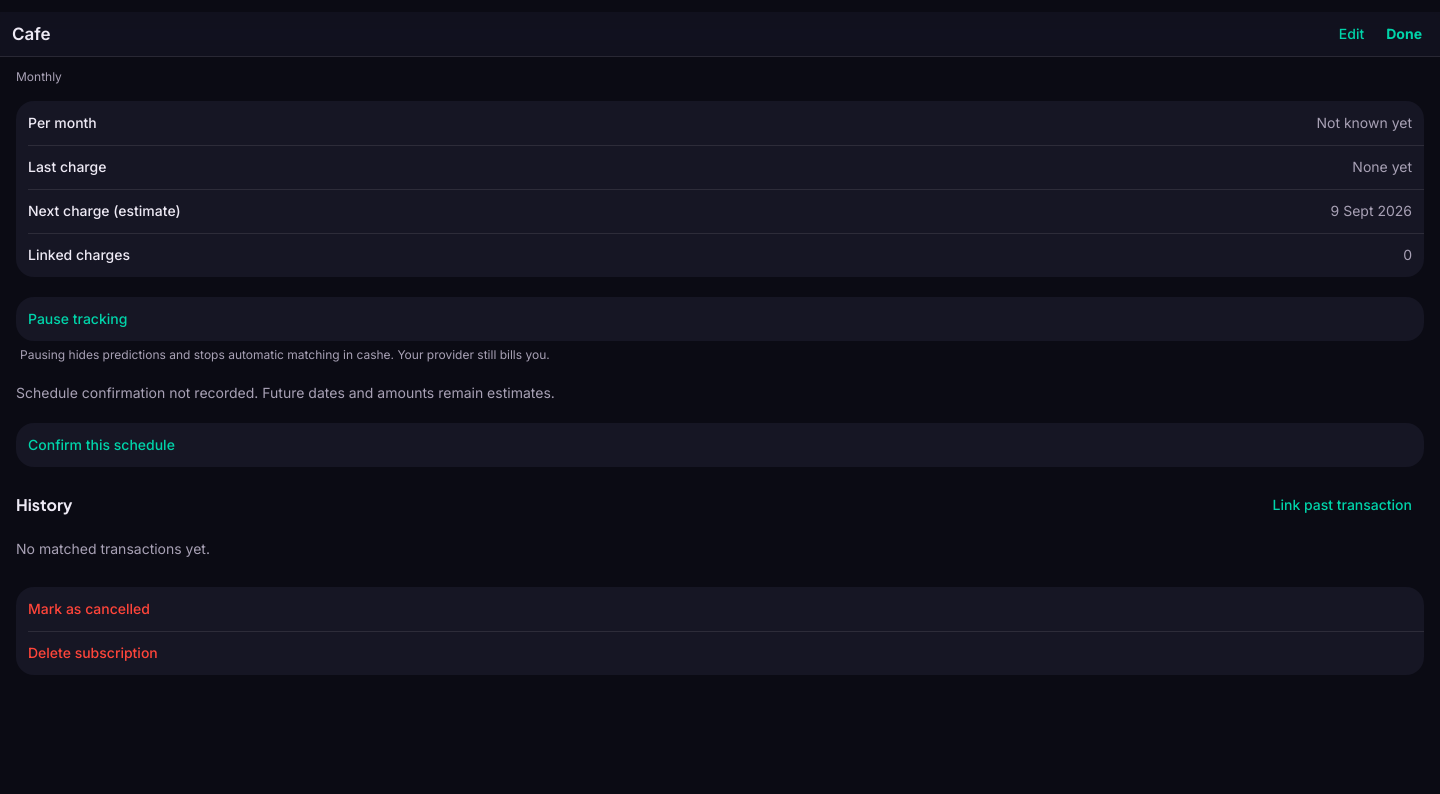
Test: failed confirmation stays unknown and can be retried
Click the button "Confirm this schedule": (101, 444) [16, 423, 1424, 467]
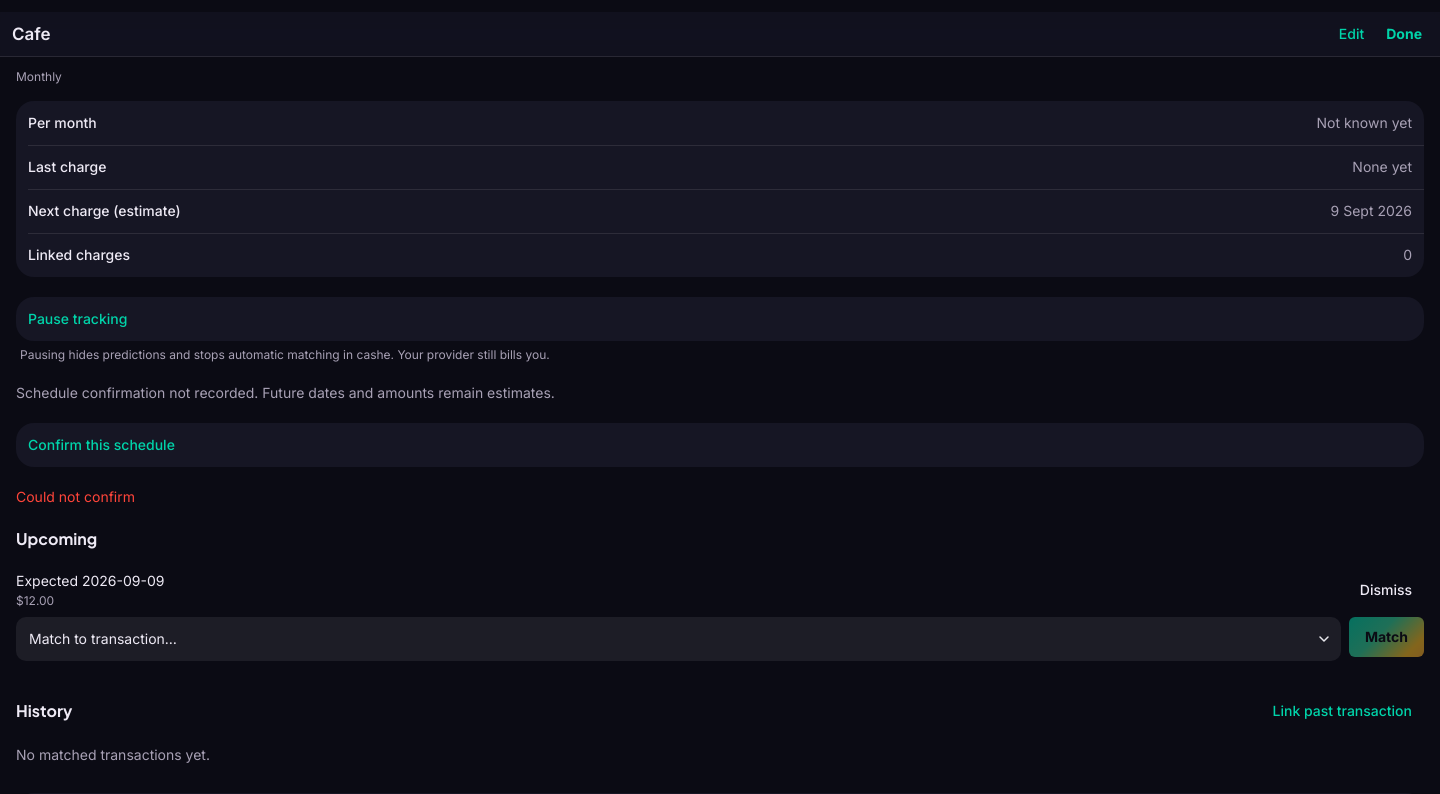
Expected: the text "Schedule confirmation not recorded" is shown, [16, 384, 254, 401]
Expected: the message reads "Could not confirm", [16, 488, 135, 505]
